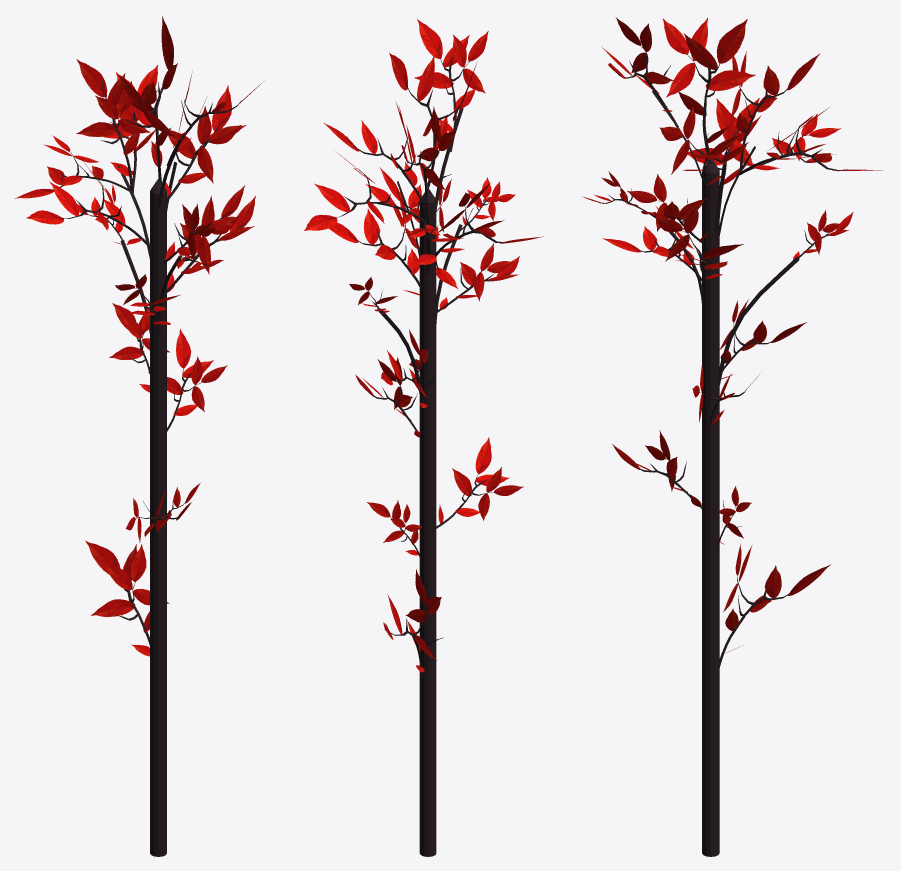
File: redtree13.fbx
The picture shows the model from 3 angles, left to right: view 1: azimuth 30°, elevation 25°; view 2: azimuth 150°, elevation 25°; view 3: azimuth 270°, elevation 25°; orthographic projection. The views are drawn at different scales.
Visible parts, largest first — view 1: pCylinder1066; view 2: pCylinder1066; view 3: pCylinder1066.
Part boxes in pixels (<box>): pCylinder1066: <box>15,16,263,856</box>; pCylinder1066: <box>304,19,543,856</box>; pCylinder1066: <box>582,17,882,856</box>.
Bounding box in the file's own units: 10.72 × 35.94 × 11.84.
